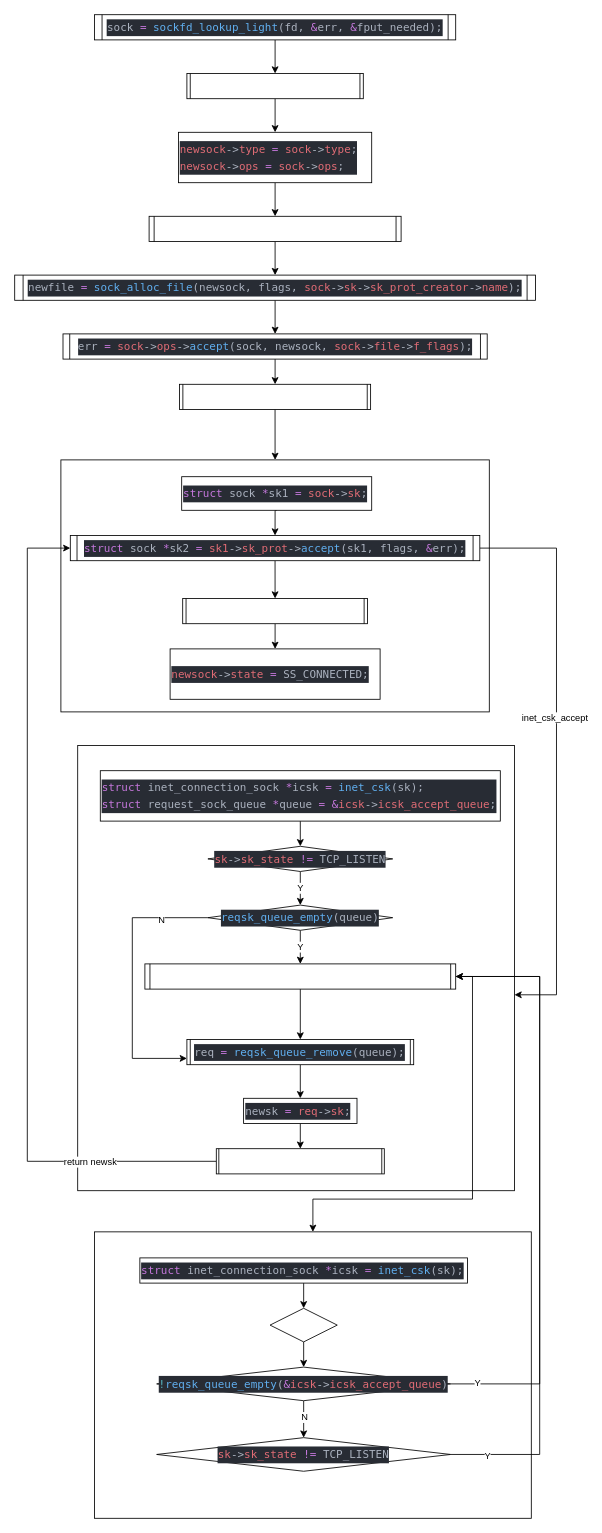
This 602x1533 diagram has some shape labels left out. The shapes that lost their labels are listed below. From the top down, each one's centre as x and y in pixels, then its label:
pixel 274 86: newsock = sock_alloc ();
pixel 274 228: newfd = get_unused_fd_flags (flags);
pixel 275 396: fd_install (newfd, newfile);
pixel 275 611: sock_rps_record_flow (sk2);
pixel 300 976: error = inet_csk_wait_for_connect (sk, timeo);
pixel 299 1161: sk_acceptq_removed (sk);
pixel 303 1324: for (;;)
